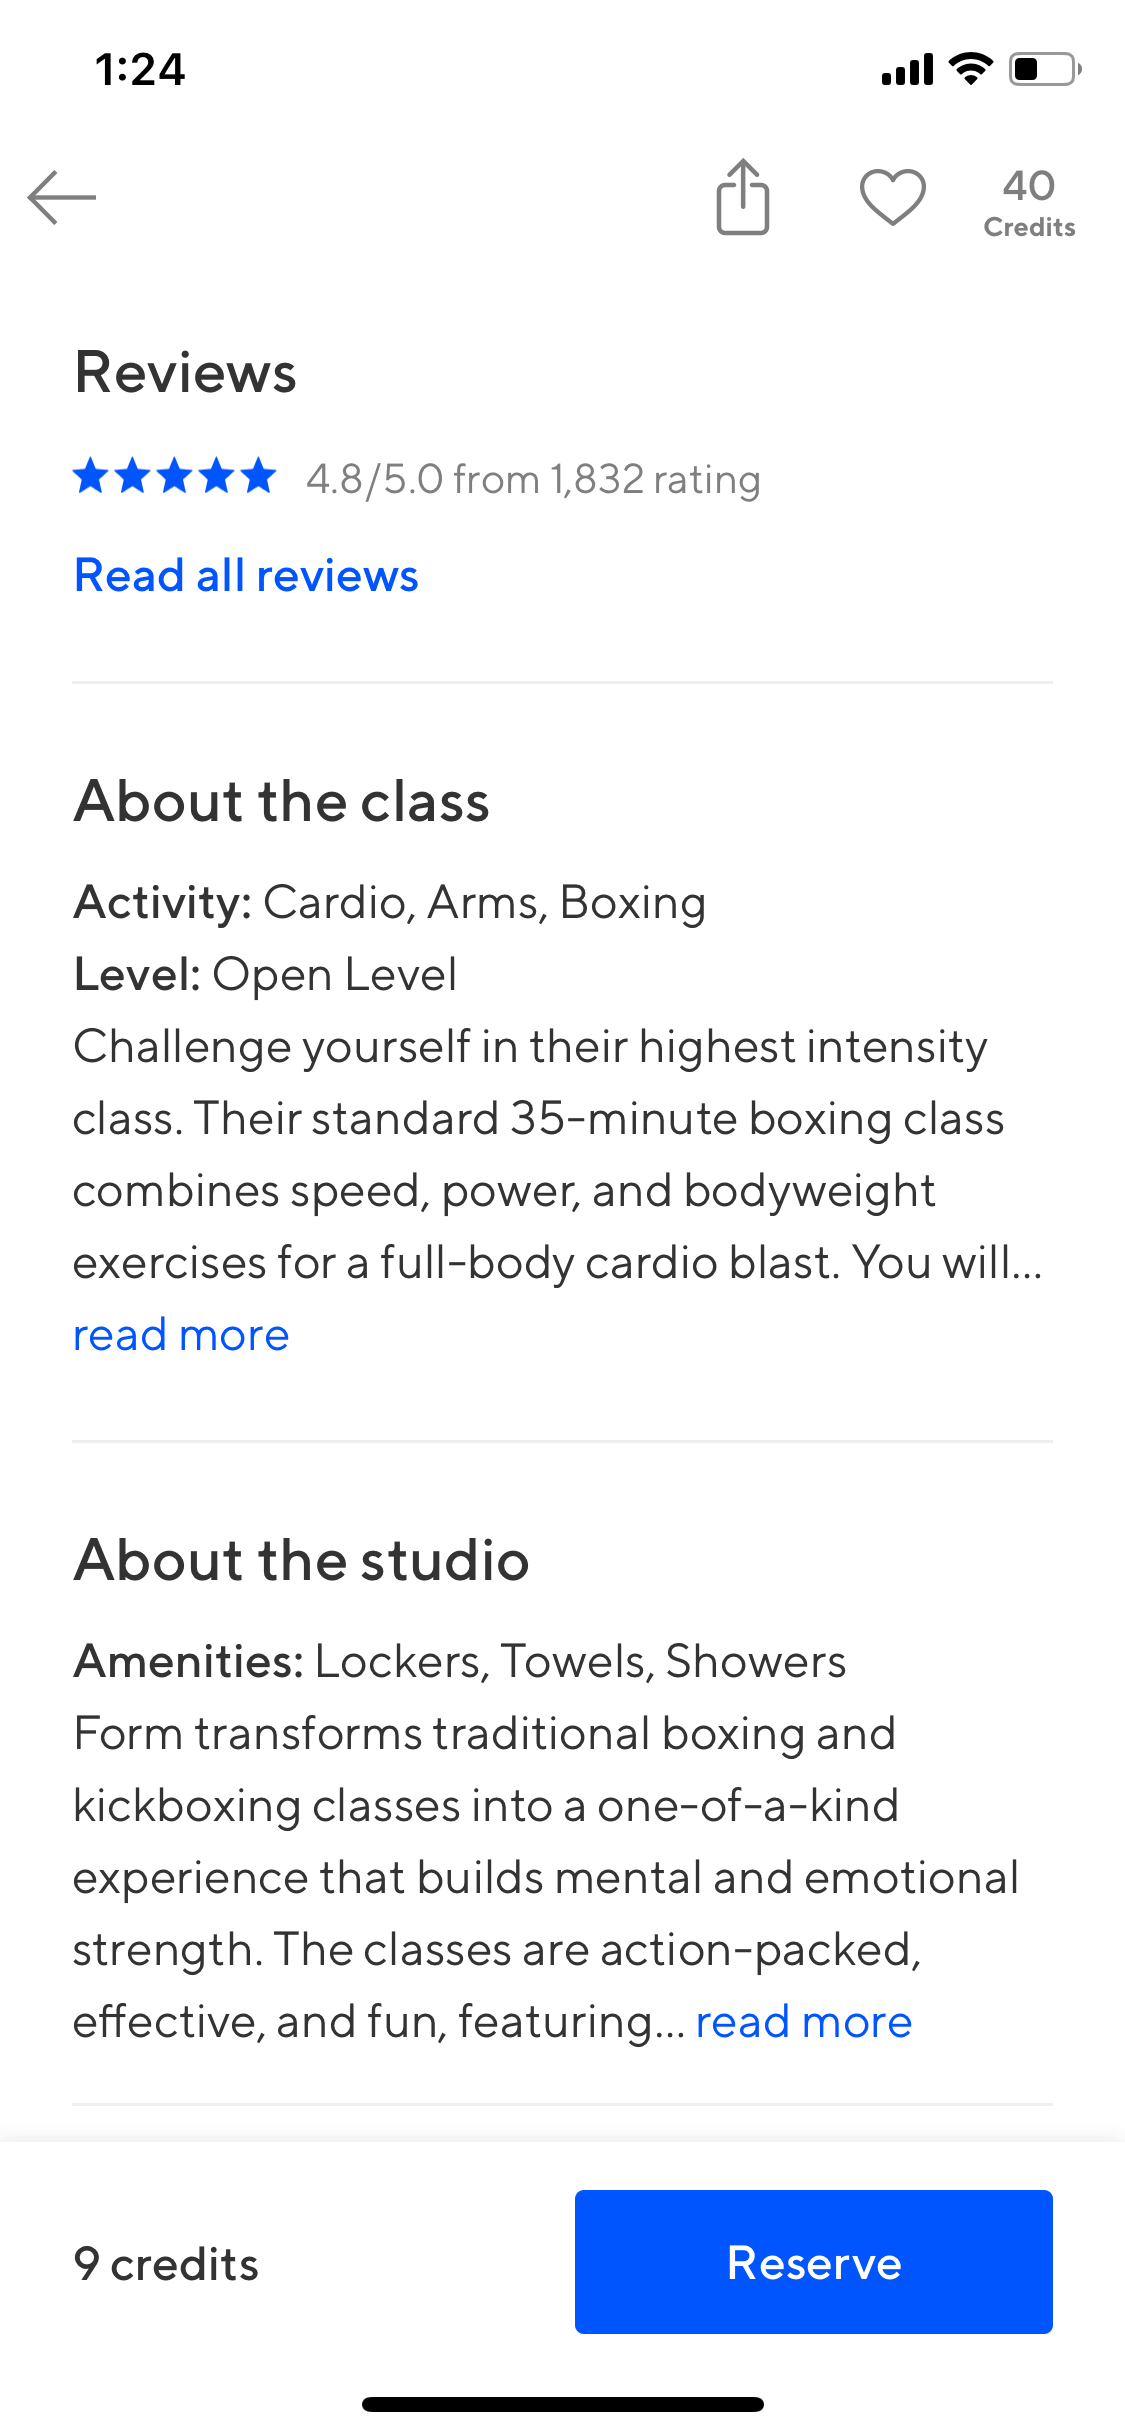Buttons: (547, 2177, 1085, 2363), (37, 530, 482, 642), (664, 137, 814, 266), (2, 138, 131, 266), (957, 137, 1095, 253), (853, 137, 949, 261)
Rating: (51, 437, 458, 511)
